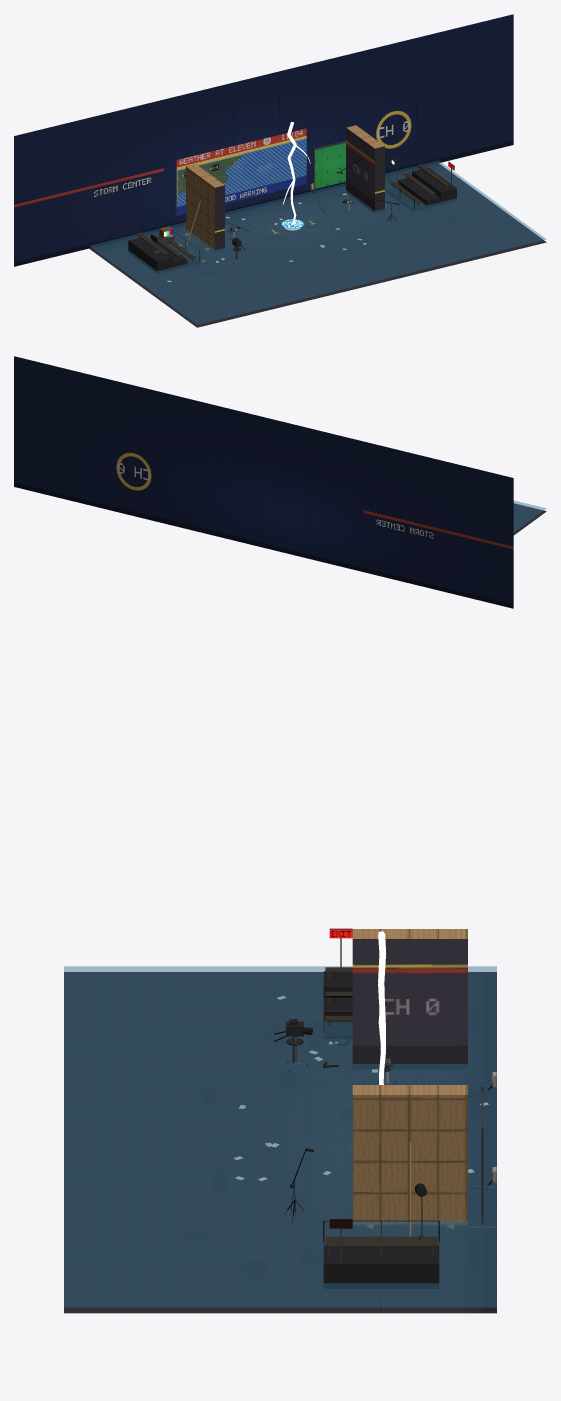
File: weather.glb
3 views of the same model, one above another, from view 1: azimuth 30°, elevation 25°; view 2: azimuth 150°, elevation 25°; view 3: azimuth 270°, elevation 25° (orthographic). The views are drawn at different scales.
Visible parts, largest first — view 1: set, fx_water, shake_map_flood, audience, shake_screen, shake_map, fx_lightning; view 2: set, fx_water; view 3: set, fx_water, audience, fx_lightning.
Boxes of the visible parts, x1,y1,x2,y2 form: set: (14,14,546,327); fx_water: (89,160,546,324); shake_map_flood: (177,138,306,215); audience: (128,161,456,273); shake_screen: (310,141,345,199); shake_map: (176,128,306,169); fx_lightning: (283,122,310,230); set: (14,356,546,608); fx_water: (513,500,546,532); set: (64,929,496,1313); fx_water: (64,966,496,1307); audience: (323,928,439,1288); fx_lightning: (378,931,386,1084).
Bounding box in the file's own units: 40 × 10.1 × 15.
Materials: 3 (2 with a texture image).
